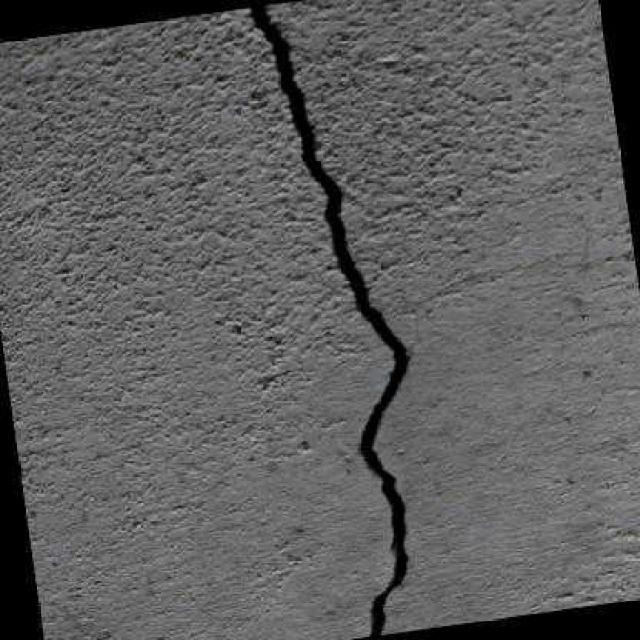D00: (242, 3, 417, 635)
